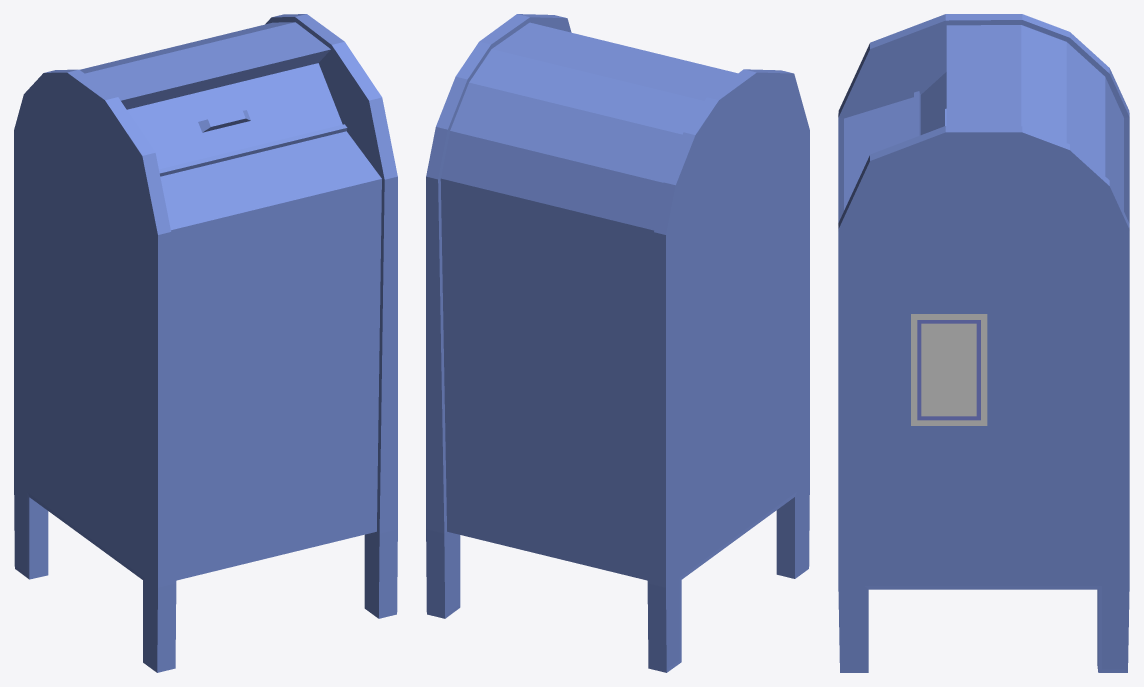
File: Mailbox.gltf
The picture shows the model from 3 angles, left to right: view 1: azimuth 30°, elevation 25°; view 2: azimuth 150°, elevation 25°; view 3: azimuth 270°, elevation 25°; orthographic projection.
Visible parts, largest first — view 1: Mailbox; view 2: Mailbox; view 3: Mailbox.
Boxes of the visible parts, x1=… form: Mailbox: x1=14, y1=14, x2=397, y2=672; Mailbox: x1=426, y1=14, x2=809, y2=672; Mailbox: x1=838, y1=14, x2=1129, y2=672.
Size of the model in its own units: 0.2179 by 0.4626 by 0.2259.
